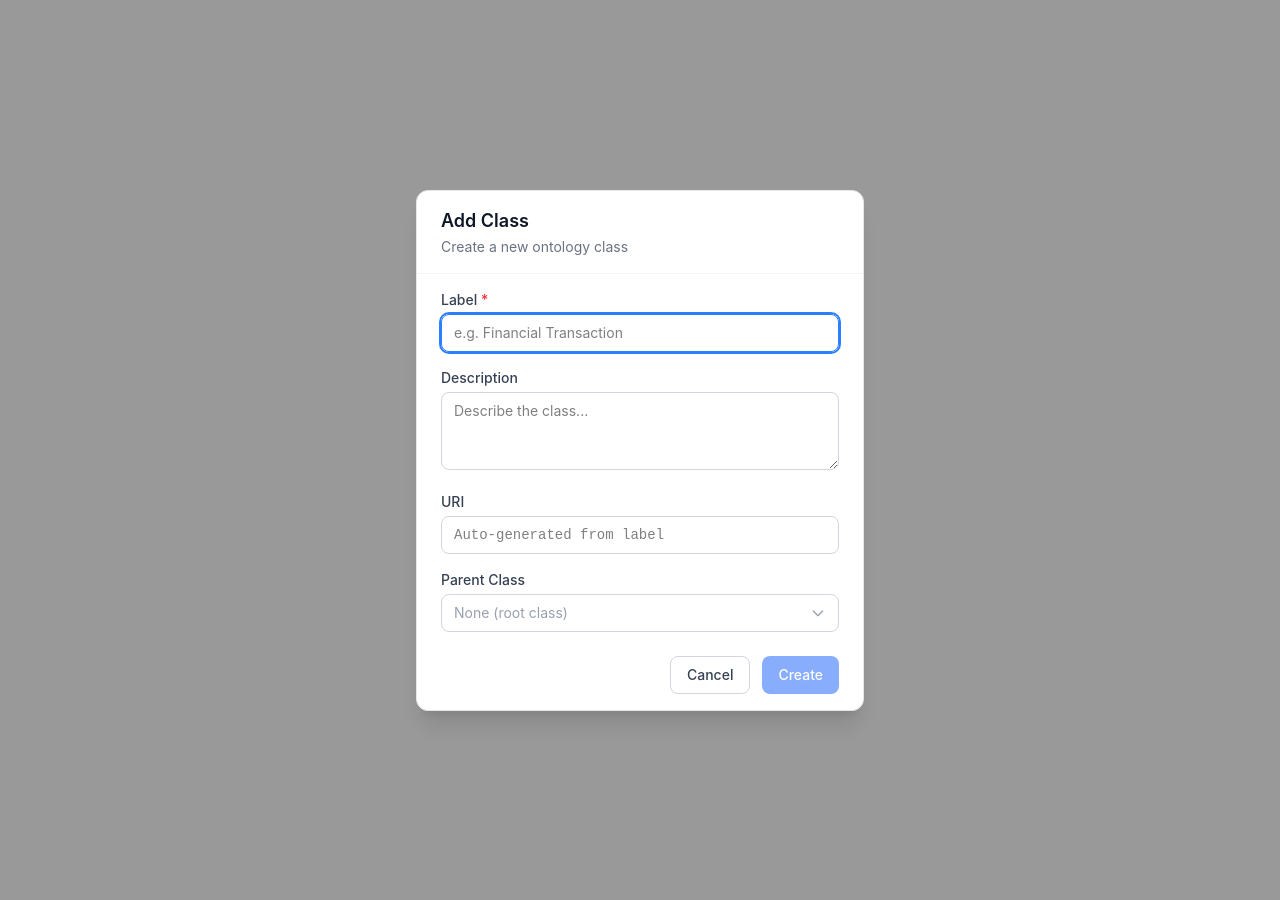
AddClassDialog › auto-generates URI from label
In the field with test id "class-label-input": (640, 332) [441,314,839,352], type "Financial Transaction"
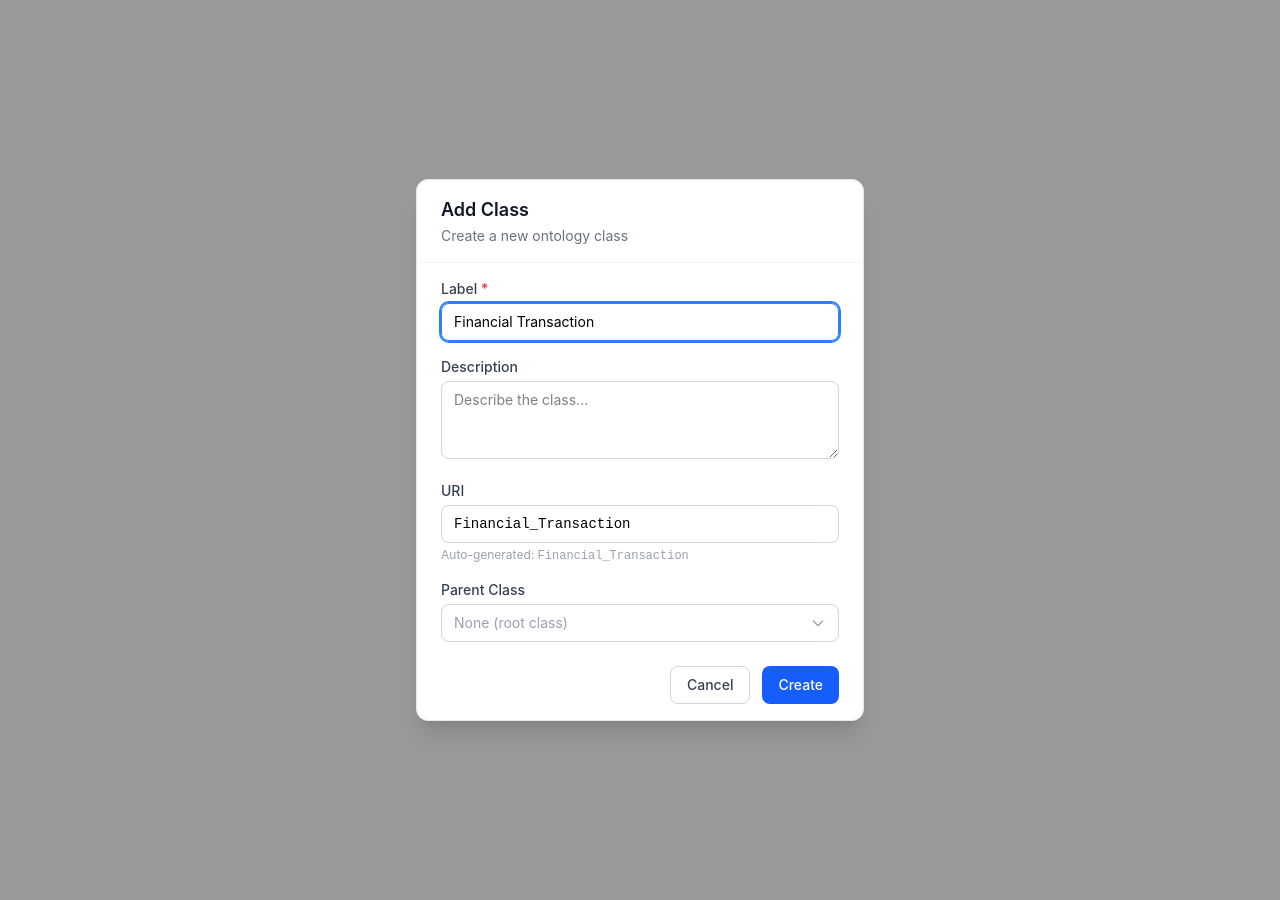
Expected: the text "Financial_Transaction" is shown, [538,549,689,563]
